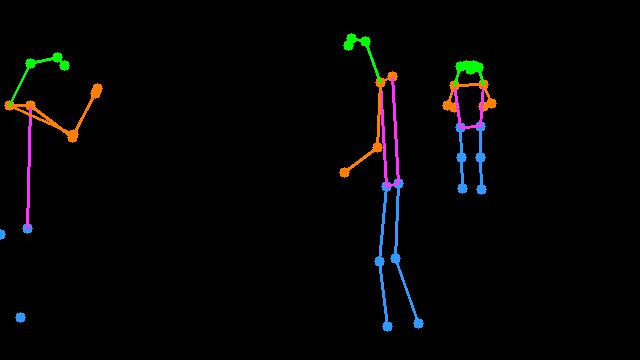normal: (317, 21, 433, 341), (432, 52, 513, 205)
